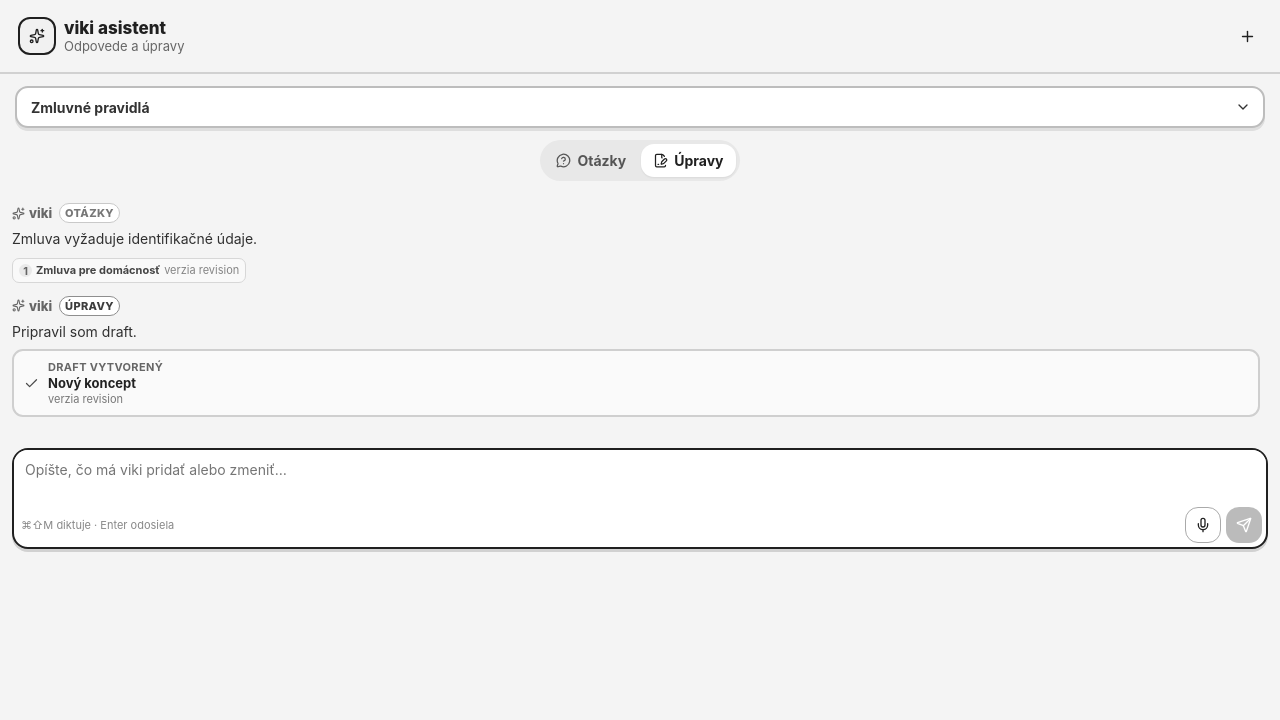
it: AssistantPanel › switches conversations through a styled accessible menu
expect the text "Zmluva vyžaduje identifikačné údaje." is shown: met, box [12,230,257,247]
What coordinates should you click on to do the following:
click the button with aria-label "Rozhovor: Zmluvné pravidlá"
I would click on:
 (90, 107)
Its box is [15,86,1265,128].
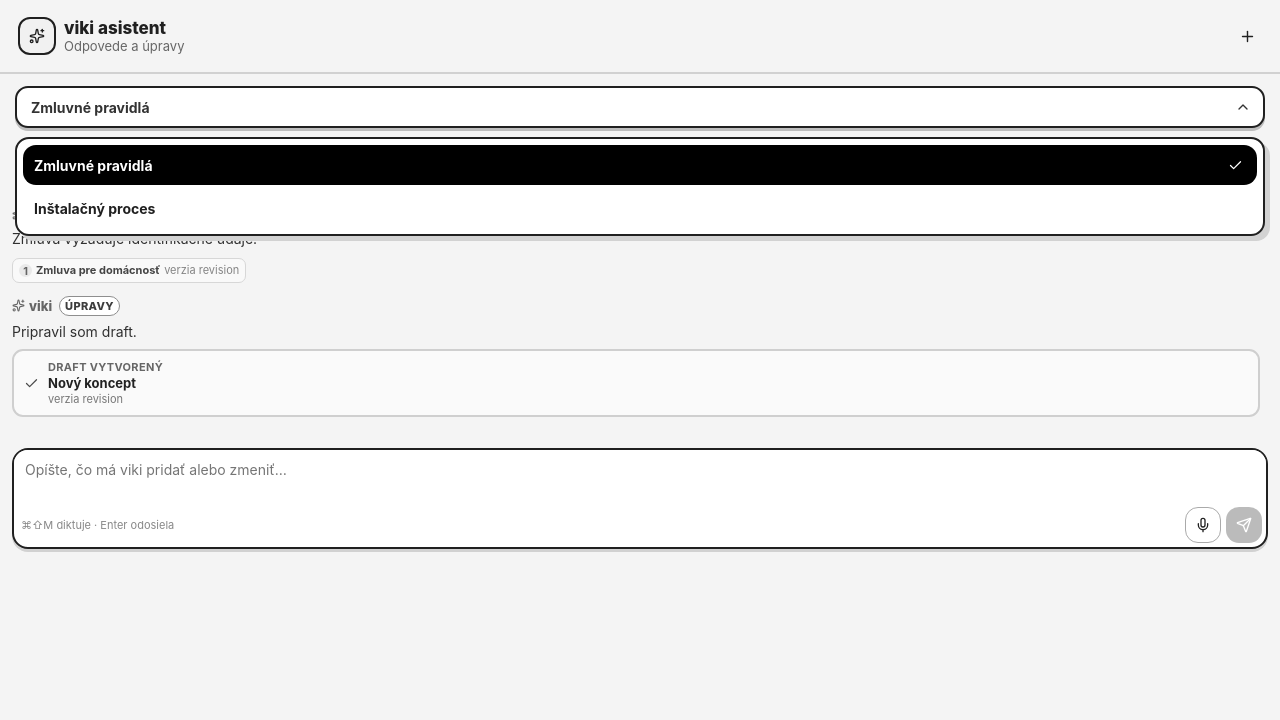
expect the list named "Rozhovory" is shown: met, box [15,137,1265,236]
What coordinates should you click on to do the following:
click the option "Inštalačný proces"
I would click on:
 (95, 208)
Its box is [23,188,1257,228].
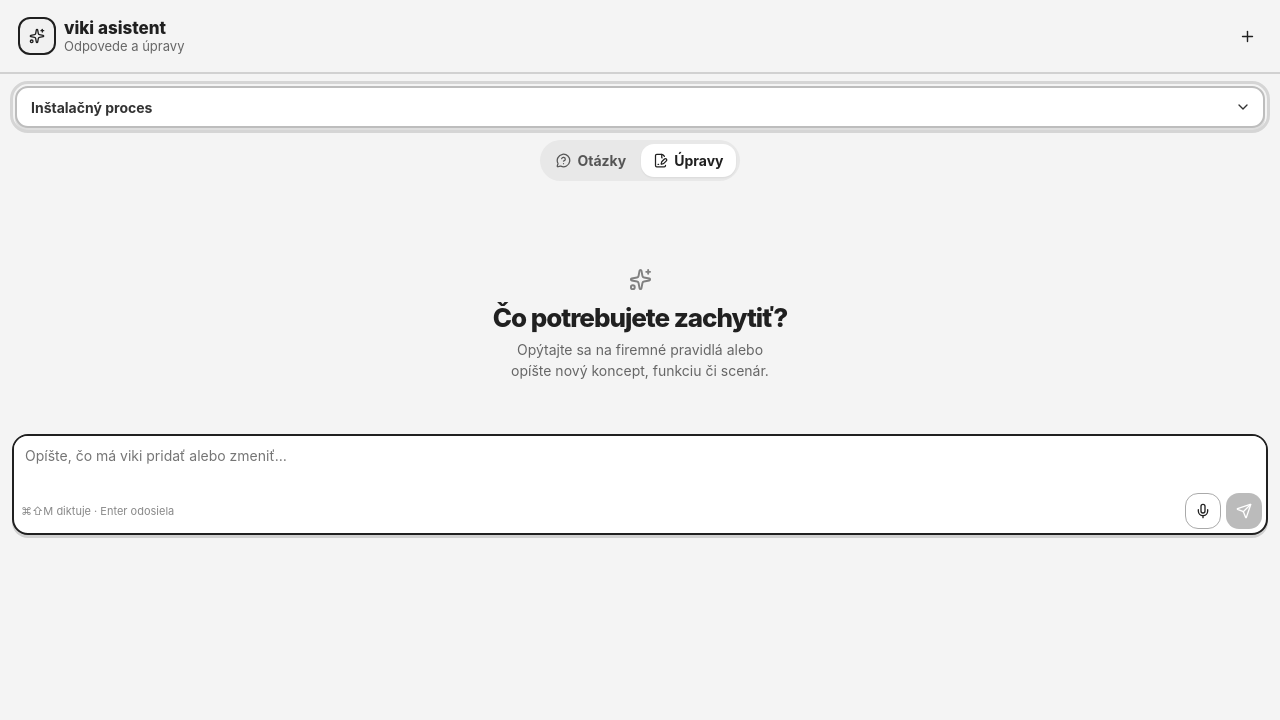
expect the button with aria-label "Rozhovor: Inštalačný proces" is shown: met, box [15,86,1265,128]
expect the list "Rozhovory" is gone: met
